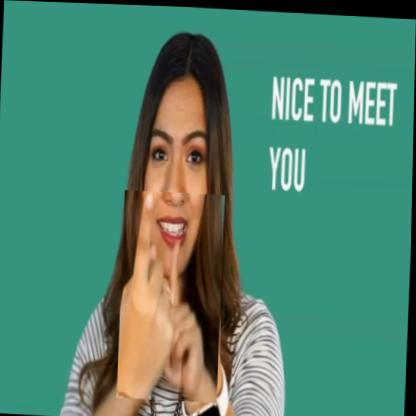NiceToMeetYou: (118, 189, 225, 402)
